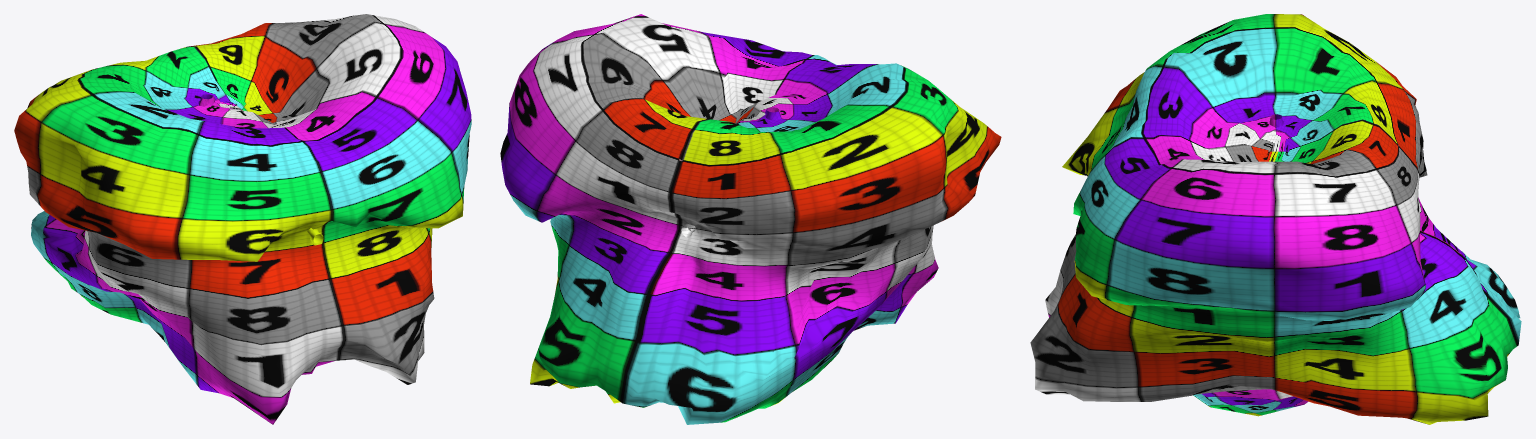
Rendered from Med Cave 3.fbx.
3 views of the same model, side by side, from view 1: azimuth 30°, elevation 25°; view 2: azimuth 150°, elevation 25°; view 3: azimuth 270°, elevation 25° (orthographic). The views are drawn at different scales.
Visible parts, largest first — view 1: Med_cave_3; view 2: Med_cave_3; view 3: Med_cave_3.
Boxes of the visible parts, x1,y1,x2,y2 form: Med_cave_3: (14,14,471,424); Med_cave_3: (500,14,1001,424); Med_cave_3: (1030,14,1521,424).
Bounding box in the file's own units: 690 × 488 × 681.
Materials: 1 (1 with a texture image).
